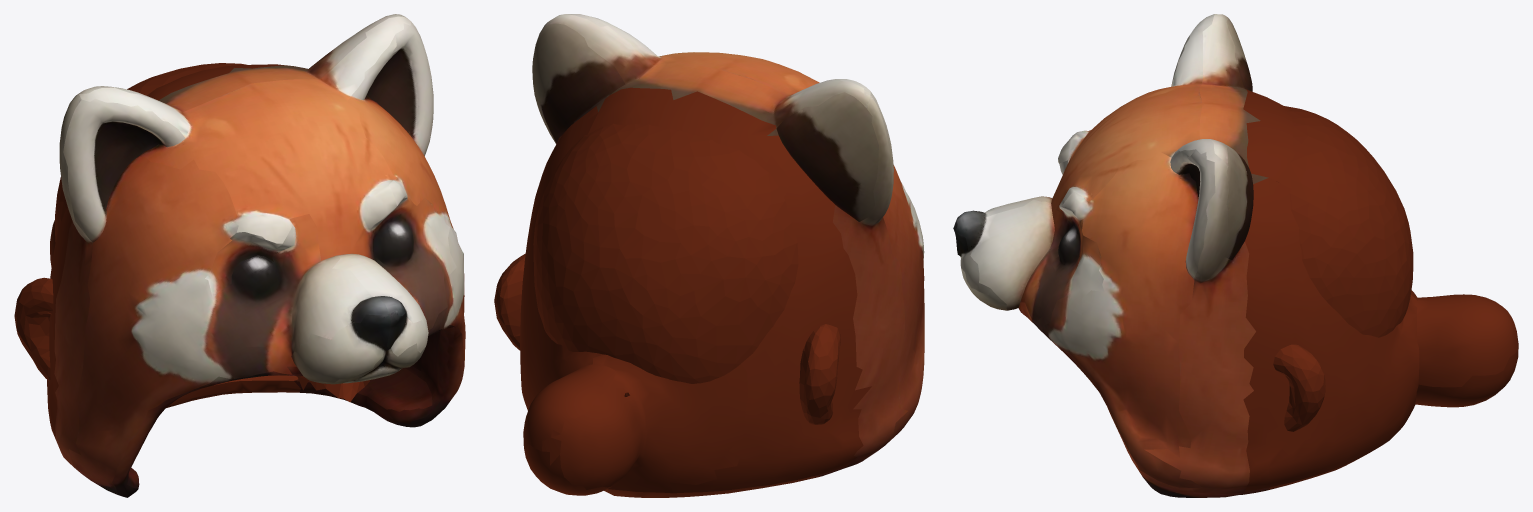
Rendered from red-panda.glb.
3 views of the same model, side by side, from view 1: azimuth 30°, elevation 25°; view 2: azimuth 150°, elevation 25°; view 3: azimuth 270°, elevation 25° (orthographic). The views are drawn at different scales.
Visible parts, largest first — view 1: geometry_0, HoodAnatomicalLining; view 2: geometry_0, HoodAnatomicalLining; view 3: geometry_0, HoodAnatomicalLining.
Part boxes in pixels (box(x1,y1,x2,y2)): geometry_0: box(47, 14, 465, 497); HoodAnatomicalLining: box(14, 63, 369, 401); geometry_0: box(520, 14, 924, 497); HoodAnatomicalLining: box(494, 123, 840, 424); geometry_0: box(953, 14, 1518, 497); HoodAnatomicalLining: box(1273, 106, 1413, 431).
Bounding box in the file's own units: 0.4821 × 0.4951 × 0.7131.
2 materials, 1 textured.
